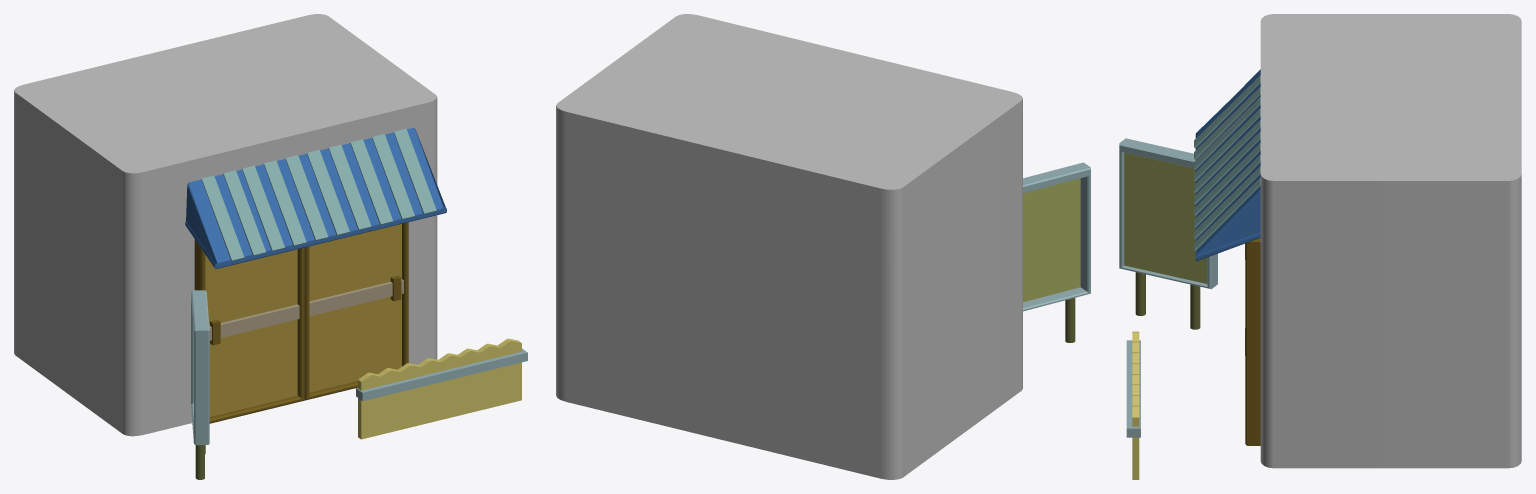
File: SM_house_2-2.fbx
The picture shows the model from 3 angles, left to right: view 1: azimuth 30°, elevation 25°; view 2: azimuth 150°, elevation 25°; view 3: azimuth 270°, elevation 25°; orthographic projection. The views are drawn at different scales.
Parts seen in each view (by area): view 1: polySurface242; view 2: polySurface242; view 3: polySurface242.
Boxes of the visible parts, left/top/right/bottom form: polySurface242: left=14, top=14, right=527, bottom=479; polySurface242: left=556, top=14, right=1090, bottom=479; polySurface242: left=1119, top=14, right=1521, bottom=479.
Size of the model in its own units: 313 by 236 by 296.
